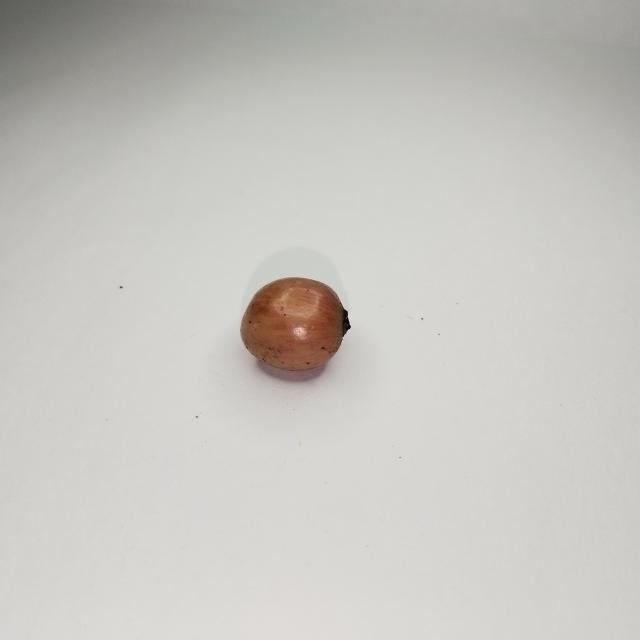Sano: (241, 276, 350, 377)
